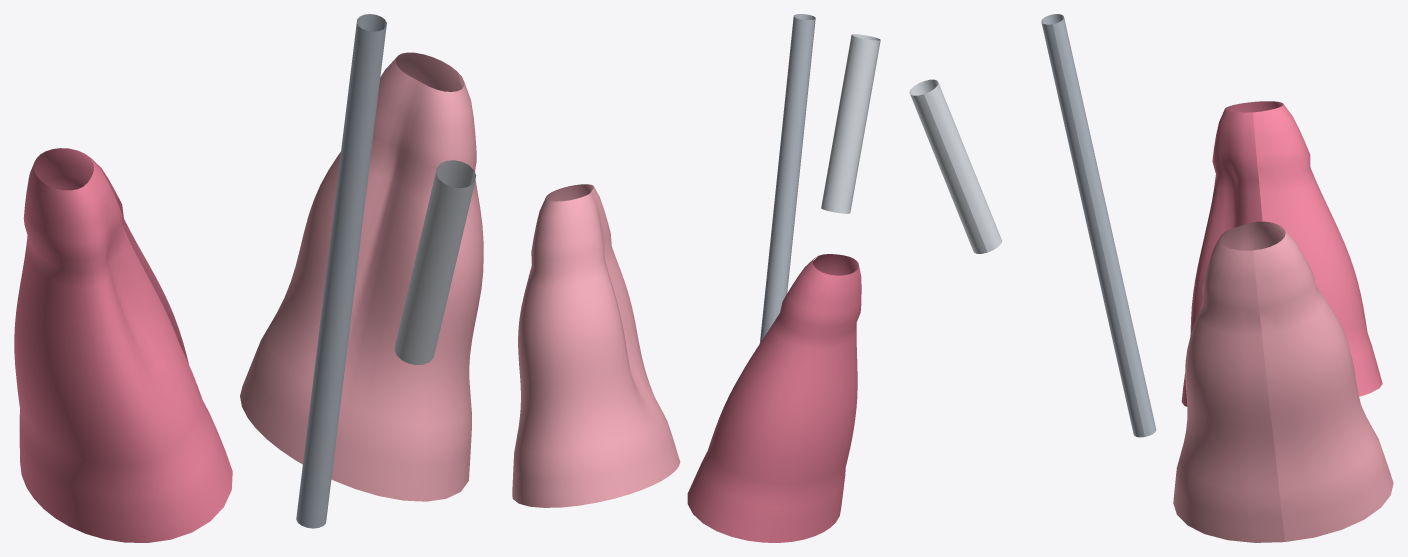
Rendered from respiratory.glb.
3 views of the same model, side by side, from view 1: azimuth 30°, elevation 25°; view 2: azimuth 150°, elevation 25°; view 3: azimuth 270°, elevation 25° (orthographic). The views are drawn at different scales.
Visible parts, largest first — view 1: Mesh_Canine_PulmoSinister, Mesh_Canine_PulmoDexter, Mesh_Canine_Trachea, Mesh_Canine_Larynx; view 2: Mesh_Canine_PulmoDexter, Mesh_Canine_PulmoSinister, Mesh_Canine_Trachea, Mesh_Canine_Larynx; view 3: Mesh_Canine_PulmoDexter, Mesh_Canine_PulmoSinister, Mesh_Canine_Trachea, Mesh_Canine_Larynx.
Part boxes in pixels (x1,y1,x2,y2): Mesh_Canine_PulmoSinister: (14, 148, 232, 542); Mesh_Canine_PulmoDexter: (240, 52, 483, 501); Mesh_Canine_Trachea: (296, 14, 386, 528); Mesh_Canine_Larynx: (394, 160, 476, 364); Mesh_Canine_PulmoDexter: (512, 184, 680, 507); Mesh_Canine_PulmoSinister: (687, 254, 861, 542); Mesh_Canine_Trachea: (759, 14, 815, 343); Mesh_Canine_Larynx: (821, 34, 880, 213); Mesh_Canine_PulmoDexter: (1173, 221, 1393, 542); Mesh_Canine_PulmoSinister: (1181, 101, 1382, 406); Mesh_Canine_Trachea: (1041, 14, 1156, 437); Mesh_Canine_Larynx: (909, 79, 1002, 253).
Bounding box in the file's own units: 0.5908 × 0.754 × 0.7452.
